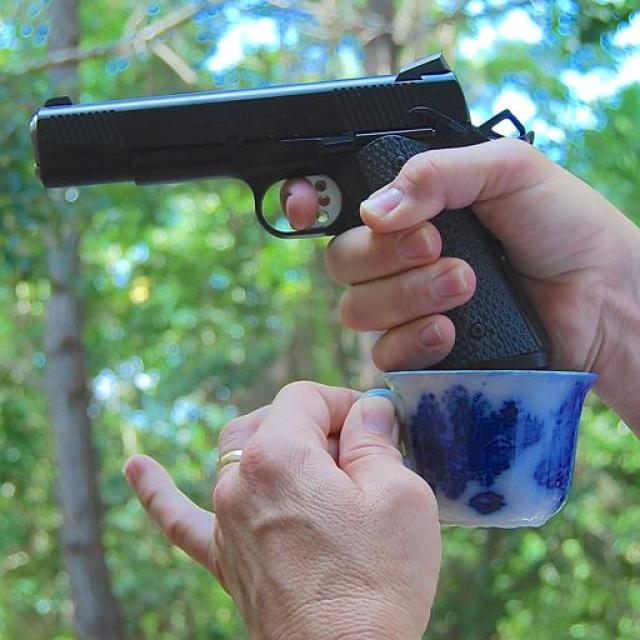pistol: (27, 50, 550, 369)
